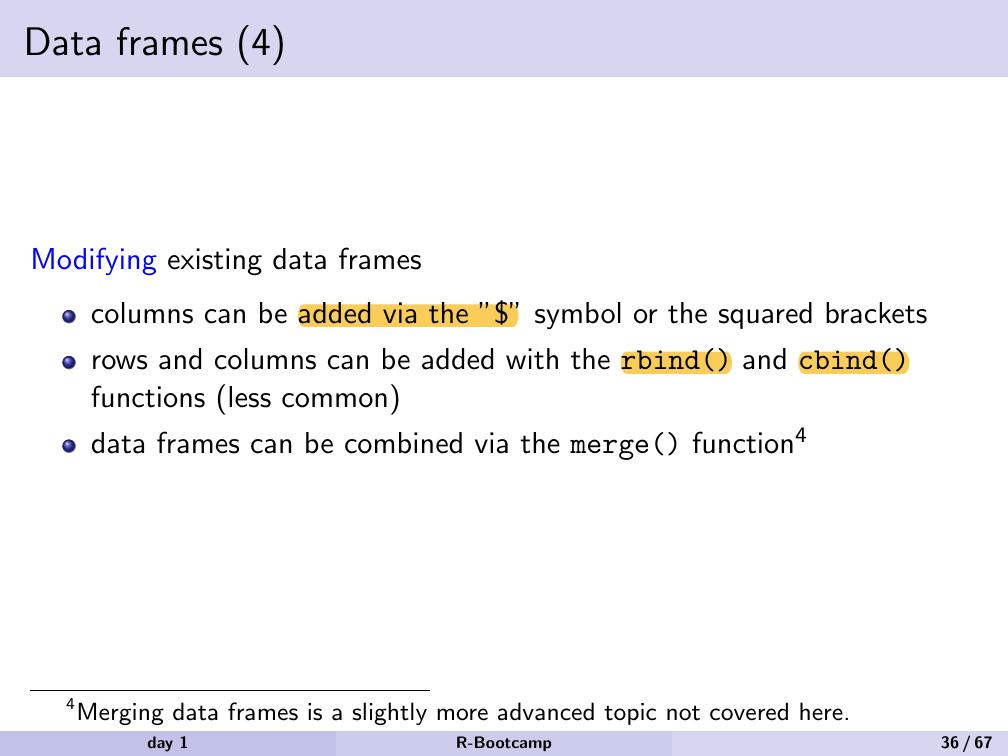Title: (19, 15, 304, 70)
